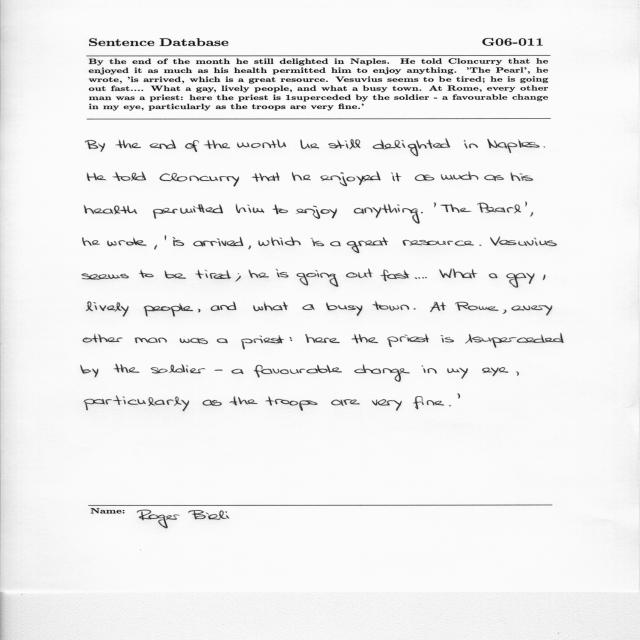word: (84, 395, 189, 411), (465, 333, 564, 348), (373, 139, 450, 157), (354, 204, 420, 224), (253, 365, 342, 378), (153, 204, 223, 219), (160, 173, 240, 186), (354, 364, 410, 382), (321, 171, 381, 186), (265, 396, 318, 411), (487, 139, 540, 153), (297, 270, 339, 287), (86, 301, 129, 317), (490, 236, 557, 246), (347, 237, 388, 253), (144, 304, 193, 317), (241, 335, 284, 349), (388, 334, 430, 347), (151, 364, 205, 374), (296, 206, 337, 219), (84, 205, 137, 215), (326, 302, 363, 316), (193, 237, 244, 247), (477, 203, 521, 214), (237, 139, 286, 148), (506, 273, 535, 288), (403, 240, 474, 246), (512, 305, 553, 315), (413, 396, 444, 409), (455, 302, 499, 311), (258, 237, 301, 246), (373, 301, 409, 311), (83, 334, 123, 343), (372, 399, 402, 411), (381, 270, 410, 282), (439, 269, 477, 278), (441, 171, 478, 180), (328, 139, 361, 149), (82, 273, 129, 280), (195, 270, 231, 279), (107, 238, 147, 246), (253, 302, 288, 311), (305, 334, 340, 343), (112, 172, 146, 181), (229, 396, 258, 406), (252, 172, 280, 182), (441, 204, 472, 213), (236, 204, 264, 213), (211, 301, 236, 311), (150, 140, 177, 149), (346, 269, 373, 278), (351, 334, 378, 343), (85, 140, 105, 152), (115, 140, 141, 149), (204, 140, 230, 149), (114, 364, 140, 373), (482, 367, 508, 376), (447, 368, 468, 379), (81, 365, 99, 377), (331, 399, 360, 406), (134, 337, 167, 343), (301, 139, 320, 149), (165, 270, 186, 279), (511, 173, 533, 181), (292, 172, 311, 181), (185, 140, 199, 152), (180, 338, 208, 344), (272, 205, 288, 215), (249, 270, 269, 278), (430, 302, 446, 312), (83, 237, 100, 246), (87, 173, 106, 181), (421, 365, 437, 374), (415, 174, 434, 181), (484, 175, 504, 181), (202, 400, 222, 406), (464, 140, 478, 148), (173, 237, 185, 246), (139, 271, 154, 278), (311, 238, 324, 246), (276, 269, 289, 277), (441, 335, 454, 343), (391, 173, 401, 182), (302, 304, 315, 310), (232, 369, 244, 374), (330, 241, 341, 246), (217, 339, 228, 344), (235, 273, 241, 282), (489, 273, 498, 278), (503, 309, 507, 314), (415, 277, 424, 279), (215, 369, 223, 371), (530, 212, 533, 217), (248, 245, 251, 250), (543, 275, 546, 280), (154, 245, 157, 249), (290, 337, 293, 341), (434, 203, 436, 208), (525, 202, 527, 207), (458, 394, 460, 399), (199, 309, 201, 313), (517, 372, 519, 376), (165, 235, 166, 240), (421, 212, 423, 214), (480, 244, 482, 246), (544, 146, 545, 148), (425, 277, 427, 278), (414, 308, 416, 309), (449, 405, 451, 406)
